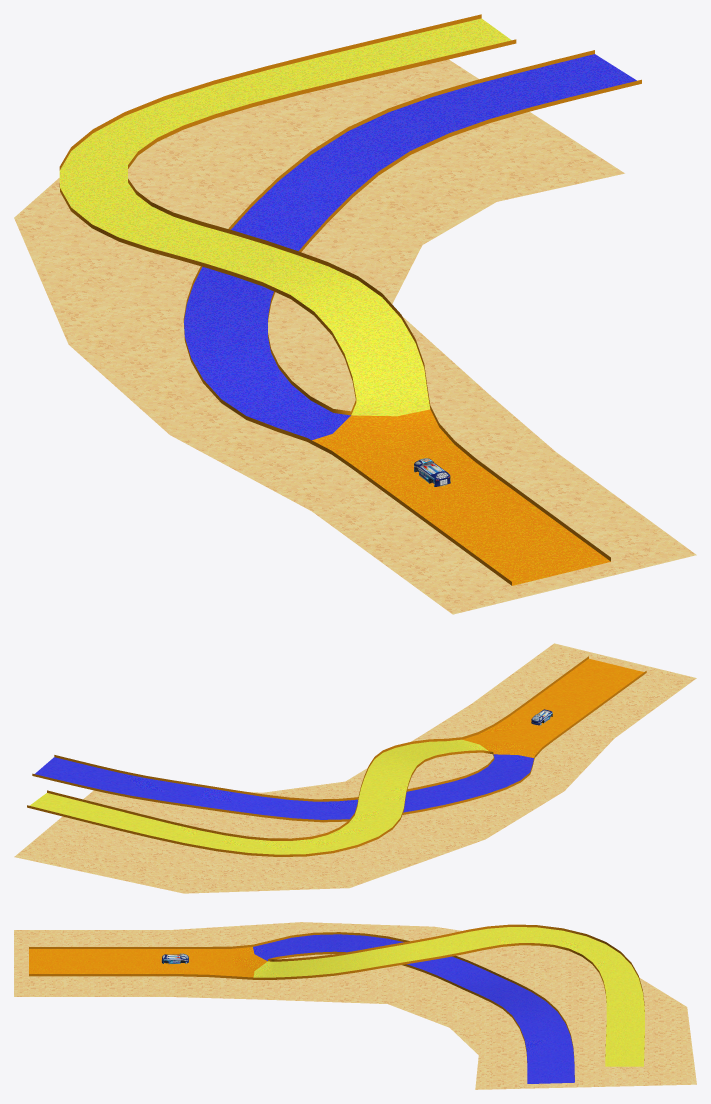
Rendered from Dawn_Encounters.glb.
The picture shows the model from 3 angles, top to bottom: view 1: azimuth 30°, elevation 25°; view 2: azimuth 150°, elevation 25°; view 3: azimuth 270°, elevation 25°; orthographic projection. The views are drawn at different scales.
Visible parts, largest first — view 1: Ground, Track; view 2: Ground, Track; view 3: Ground, Track.
Part boxes in pixels (left/top/right/bottom): Ground: left=14, top=59, right=696, bottom=614; Track: left=59, top=14, right=641, bottom=585; Ground: left=14, top=643, right=696, bottom=893; Track: left=27, top=656, right=646, bottom=856; Ground: left=14, top=922, right=696, bottom=1089; Track: left=29, top=924, right=644, bottom=1083.
Size of the model in its own units: 27.16 by 1.87 by 42.36.
6 materials, 6 textured.
